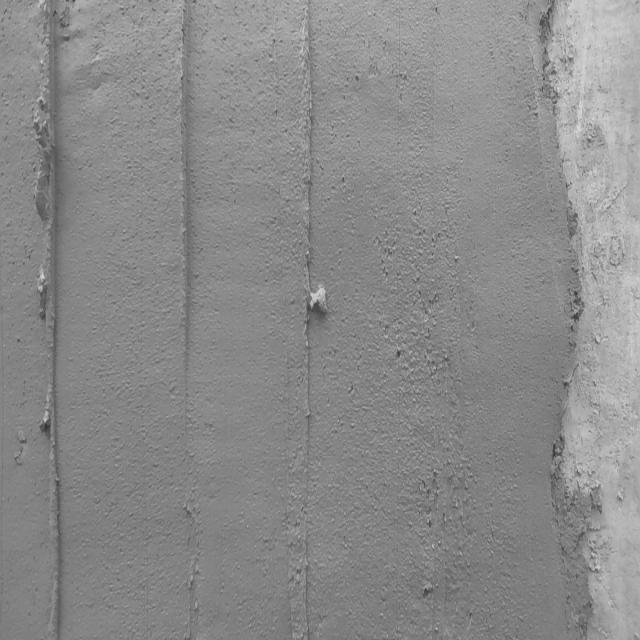trowels marks: (38, 3, 66, 640), (303, 3, 328, 614), (176, 0, 200, 408)
